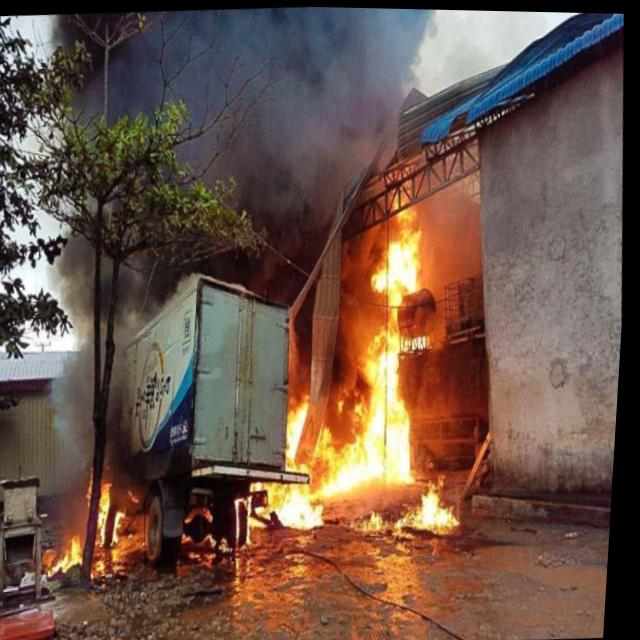fire: (272, 174, 451, 538), (399, 464, 475, 540), (252, 475, 333, 539), (84, 466, 141, 551), (47, 527, 96, 590)
